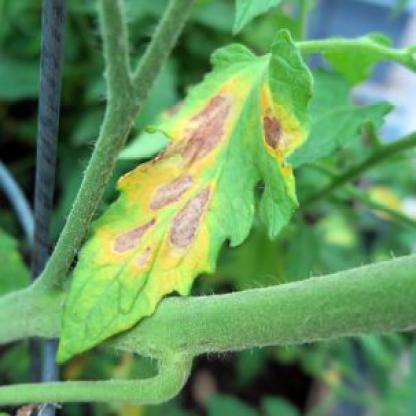tomato early blight leaf: (59, 24, 301, 363)
